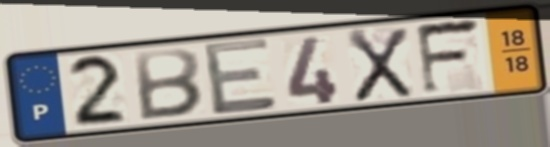2: (66, 51, 132, 130)
4: (283, 31, 343, 107)
B: (132, 46, 205, 123)
E: (199, 35, 281, 119)
F: (412, 14, 486, 98)
X: (344, 25, 415, 105)
